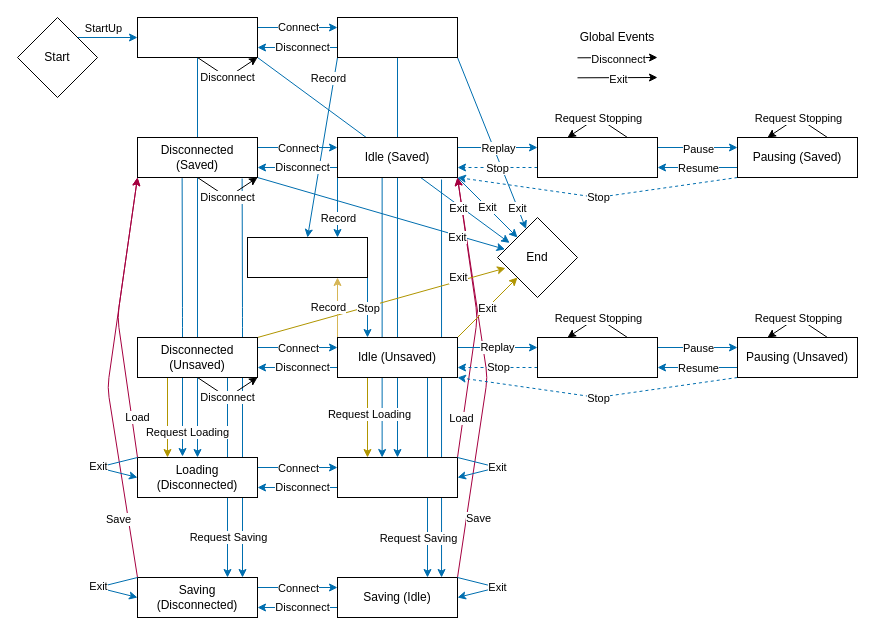
This 875x635 diagram has some shape labels left out. Each missing label, with the box of its shape:
Disconnected (Empty): (136, 16, 258, 58)
Idle (Empty): (336, 16, 458, 58)
Loading (Idle): (336, 456, 458, 498)
Recording: (246, 236, 368, 278)
Replaying (Saved): (536, 136, 658, 178)
Replaying (Unsaved): (536, 336, 658, 378)
